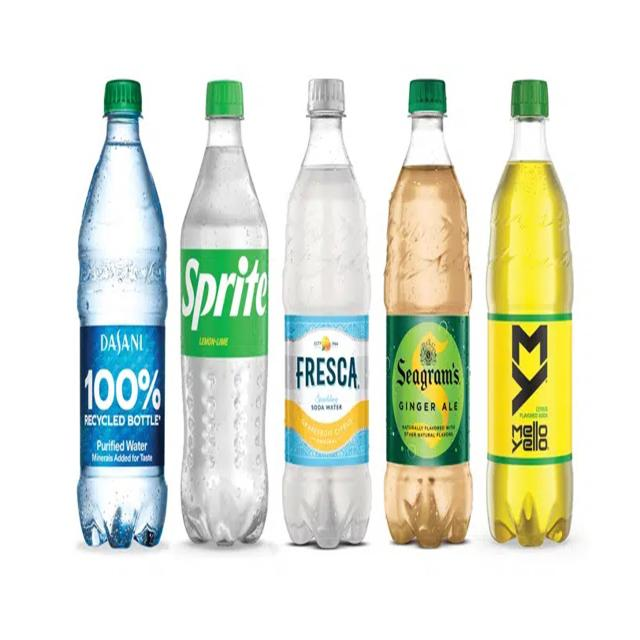bottle: (76, 76, 168, 550), (383, 76, 474, 552), (179, 77, 269, 551), (282, 75, 372, 549), (485, 77, 574, 549)
